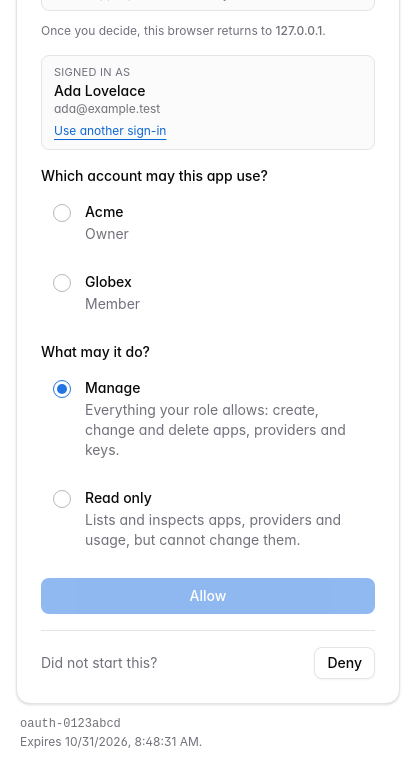
Test: OAuthConsentPage signed in › denies back to the client
(page scrolled)
Step 1. Click the button "Deny" → [345, 662], box top-left (314, 646), bottom-right (375, 678)
(page scrolled)
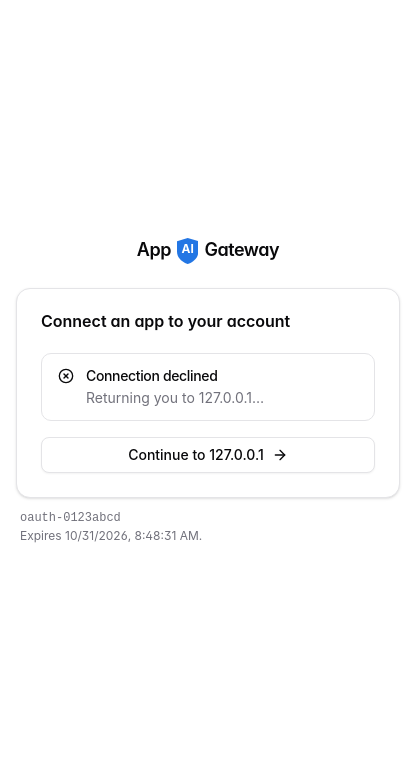
expect the heading "Connection declined" is shown: met, box top-left (86, 367), bottom-right (217, 384)
